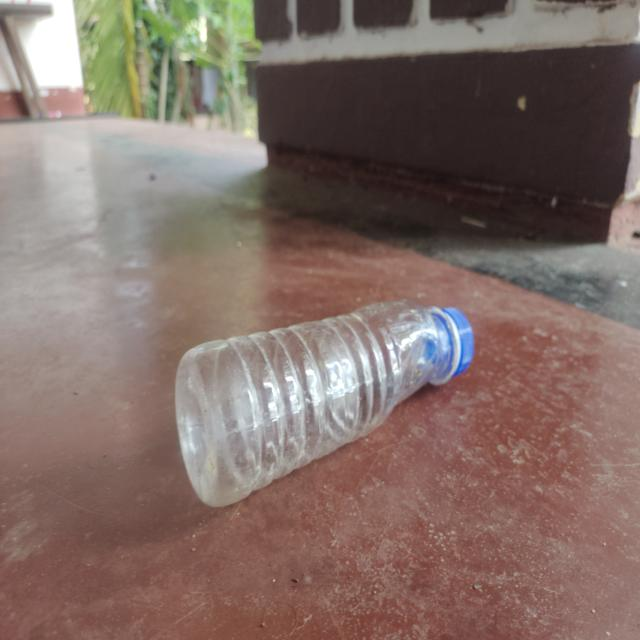plastic: (174, 299, 476, 506)
